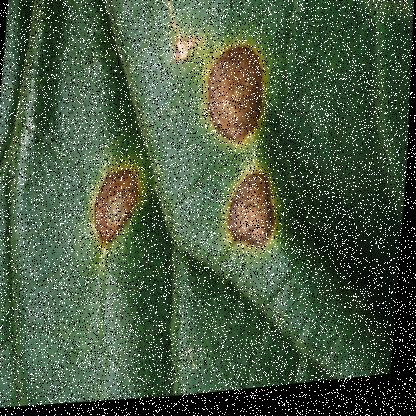AlternariaBrassicicola: (197, 42, 272, 154), (221, 167, 291, 264), (83, 161, 153, 252)
